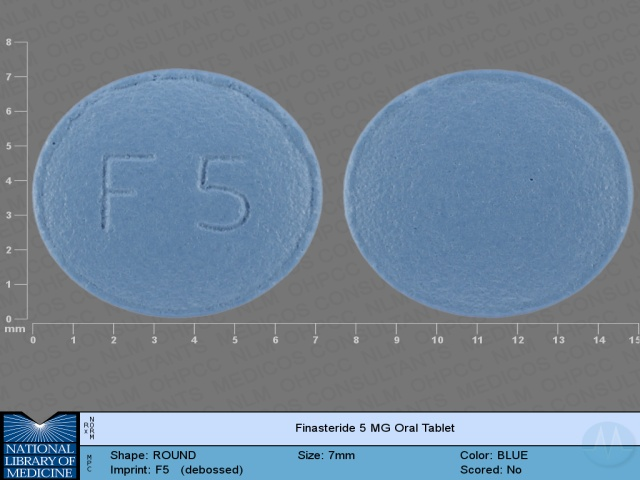5: (195, 148, 254, 242)
F: (91, 146, 160, 241)
